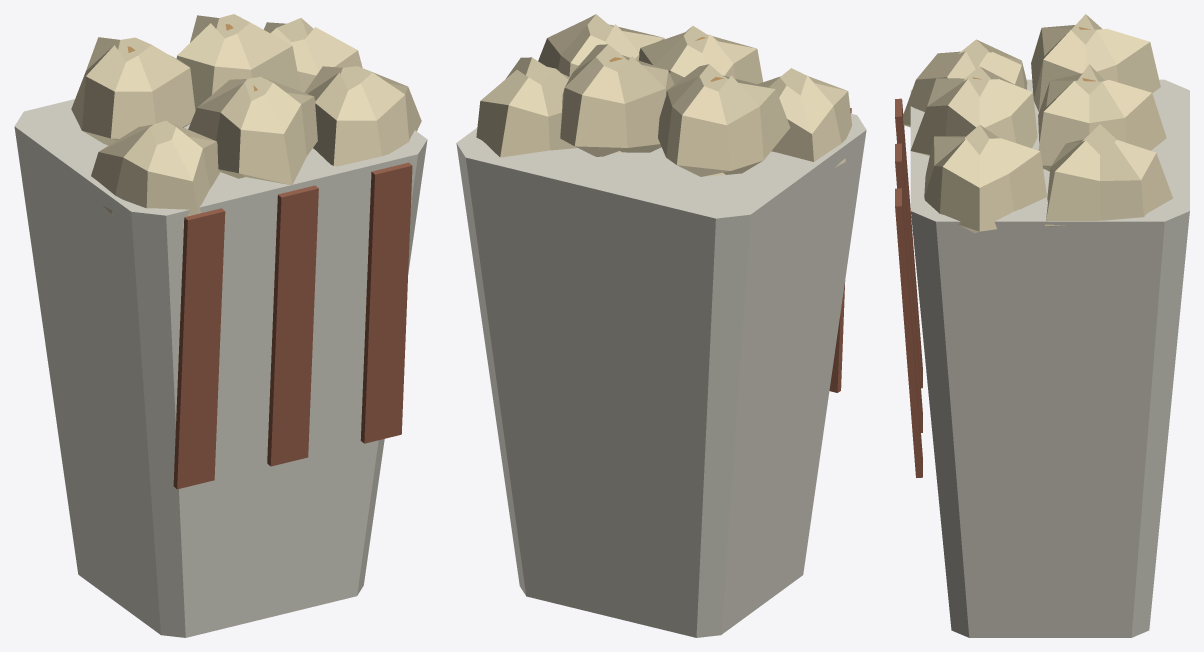
File: b16_popcorn_carton.glb
3 renders of one model, left to right at view 1: azimuth 30°, elevation 25°; view 2: azimuth 150°, elevation 25°; view 3: azimuth 270°, elevation 25°, orthographic.
Visible parts, largest first — view 1: b16_popcorn_carton; view 2: b16_popcorn_carton; view 3: b16_popcorn_carton.
Part boxes in pixels (box(x1,y1,x2,y2)): b16_popcorn_carton: box(14, 14, 427, 637); b16_popcorn_carton: box(456, 14, 866, 637); b16_popcorn_carton: box(895, 14, 1189, 637).
Bounding box in the file's own units: 0.1003 × 0.1665 × 0.0835.
